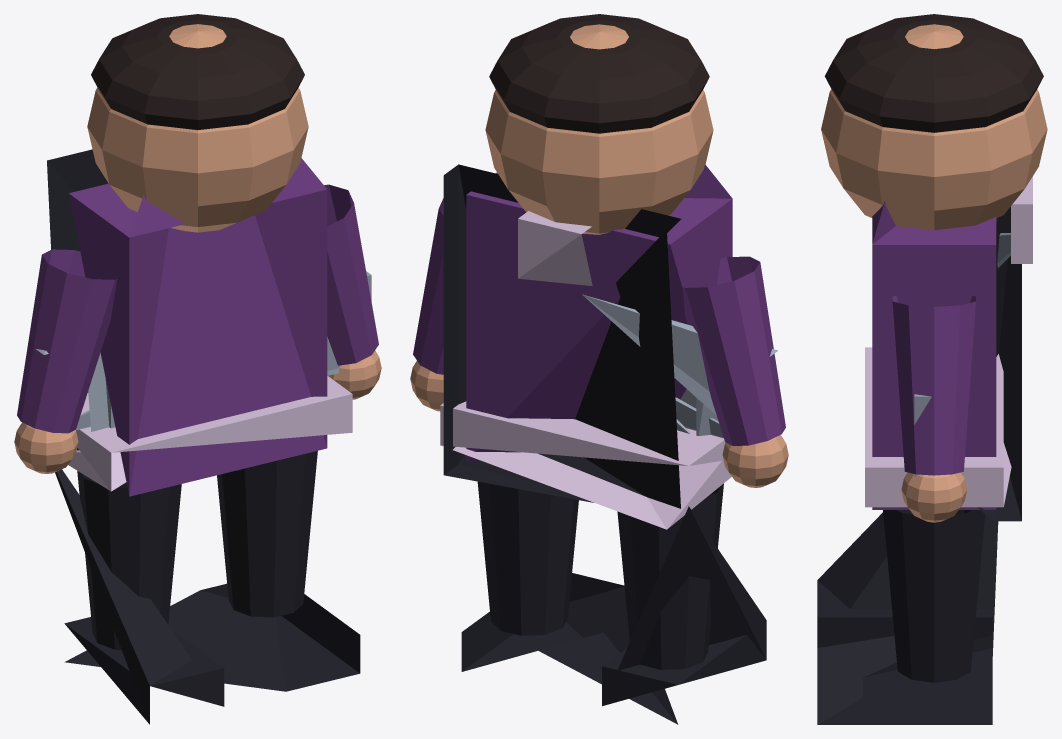
Rendered from Assassin_Female.obj.
3 views of the same model, side by side, from view 1: azimuth 30°, elevation 25°; view 2: azimuth 150°, elevation 25°; view 3: azimuth 270°, elevation 25° (orthographic). The views are drawn at different scales.
Parts seen in each view (by area): view 1: Assassin_Female; view 2: Assassin_Female; view 3: Assassin_Female.
Part boxes in pixels (x1=…): Assassin_Female: x1=14, y1=14, x2=381, y2=724; Assassin_Female: x1=410, y1=14, x2=788, y2=724; Assassin_Female: x1=817, y1=14, x2=1047, y2=724.
Bounding box in the file's own units: 1.16 × 1.93 × 0.63.
